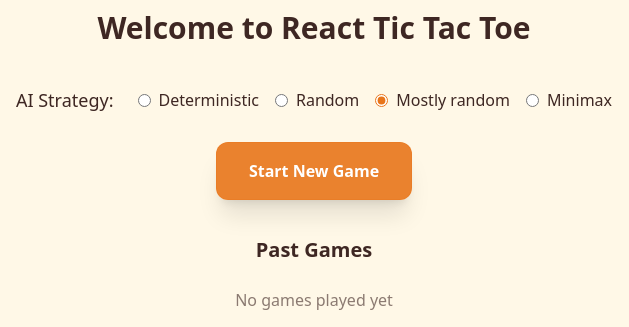
Test: App › allows switching to random strategy via radio
Click the radio button with test id "strategy-random" at point(282, 100), box [275,94,288,106]
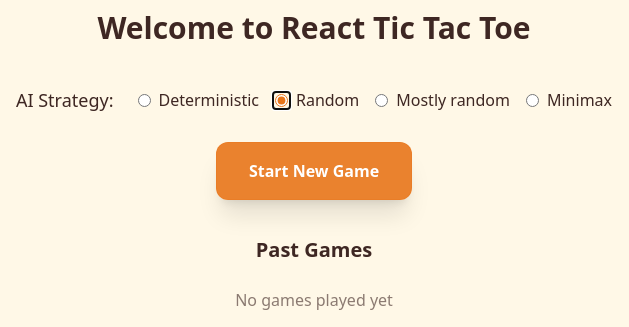
expect the radio button with test id "strategy-deterministic" is not checked: met, box [138,94,150,106]
expect the radio button with test id "strategy-random" is checked: met, box [275,94,288,106]
expect the radio button with test id "strategy-mostly-random" is not checked: met, box [375,94,388,106]
